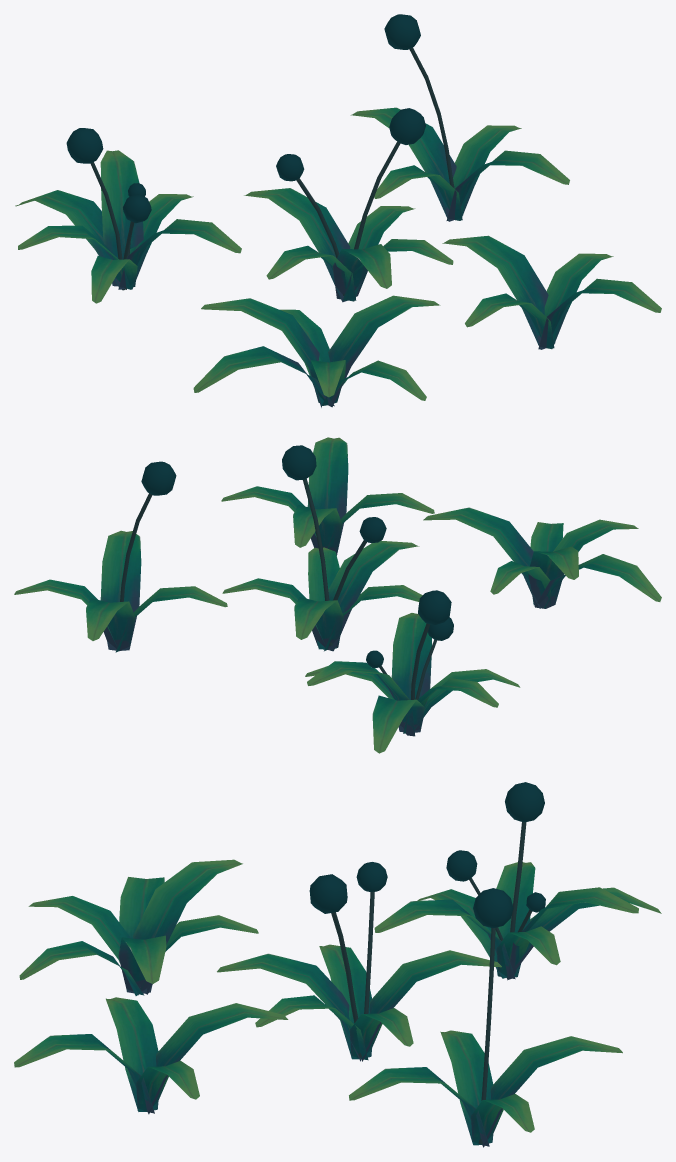
The model's file is NAT_GlowPlants.glb.
The picture shows the model from 3 angles, top to bottom: view 1: azimuth 30°, elevation 25°; view 2: azimuth 150°, elevation 25°; view 3: azimuth 270°, elevation 25°; orthographic projection. The views are drawn at different scales.
Parts seen in each view (by area): view 1: Flow1, Flow3, Leafs1, Flow2, Leafs2; view 2: Flow1, Flow3, Leafs1, Flow2, Leafs2; view 3: Flow3, Flow1, Leafs1, Flow2, Leafs2.
Part boxes in pixels (<box>): Flow1: <box>15,128,241,303</box>; Flow3: <box>244,108,453,302</box>; Leafs1: <box>193,295,440,407</box>; Flow2: <box>350,14,569,221</box>; Leafs2: <box>442,235,661,349</box>; Flow1: <box>305,590,520,753</box>; Flow3: <box>222,445,422,651</box>; Leafs1: <box>423,507,661,608</box>; Flow2: <box>14,461,227,652</box>; Leafs2: <box>221,437,434,555</box>; Flow3: <box>217,862,501,1061</box>; Flow1: <box>374,782,661,980</box>; Leafs1: <box>19,859,258,995</box>; Flow2: <box>349,888,622,1147</box>; Leafs2: <box>14,997,288,1114</box>.
Size of the model in its own units: 0.3114 by 0.1263 by 0.3194.
Materials: 1 (1 with a texture image).
